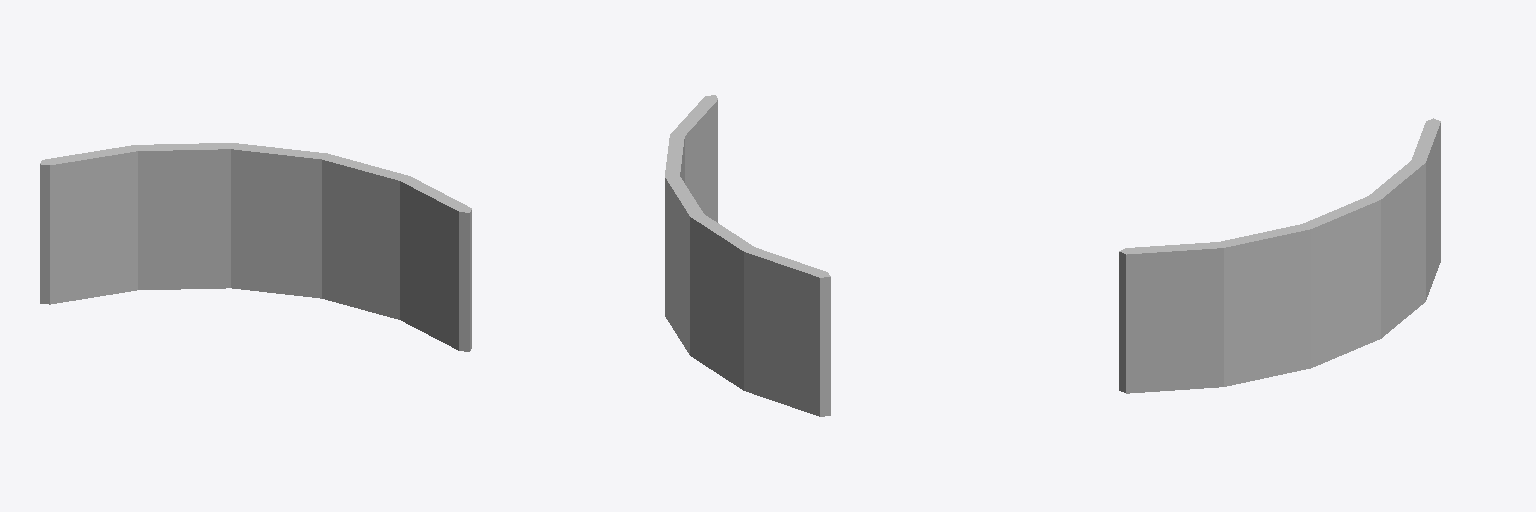
File: Wall_Curved_Outer.obj
3 views of the same model, side by side, from view 1: azimuth 30°, elevation 25°; view 2: azimuth 150°, elevation 25°; view 3: azimuth 270°, elevation 25° (orthographic).
Visible parts, largest first — view 1: object1; view 2: object1; view 3: object1.
Part boxes in pixels (x1,y1,x2,y2): object1: (40,143,471,351); object1: (665,95,830,416); object1: (1119,118,1440,393).
Bounding box in the file's own units: 2.1 × 1 × 2.1.